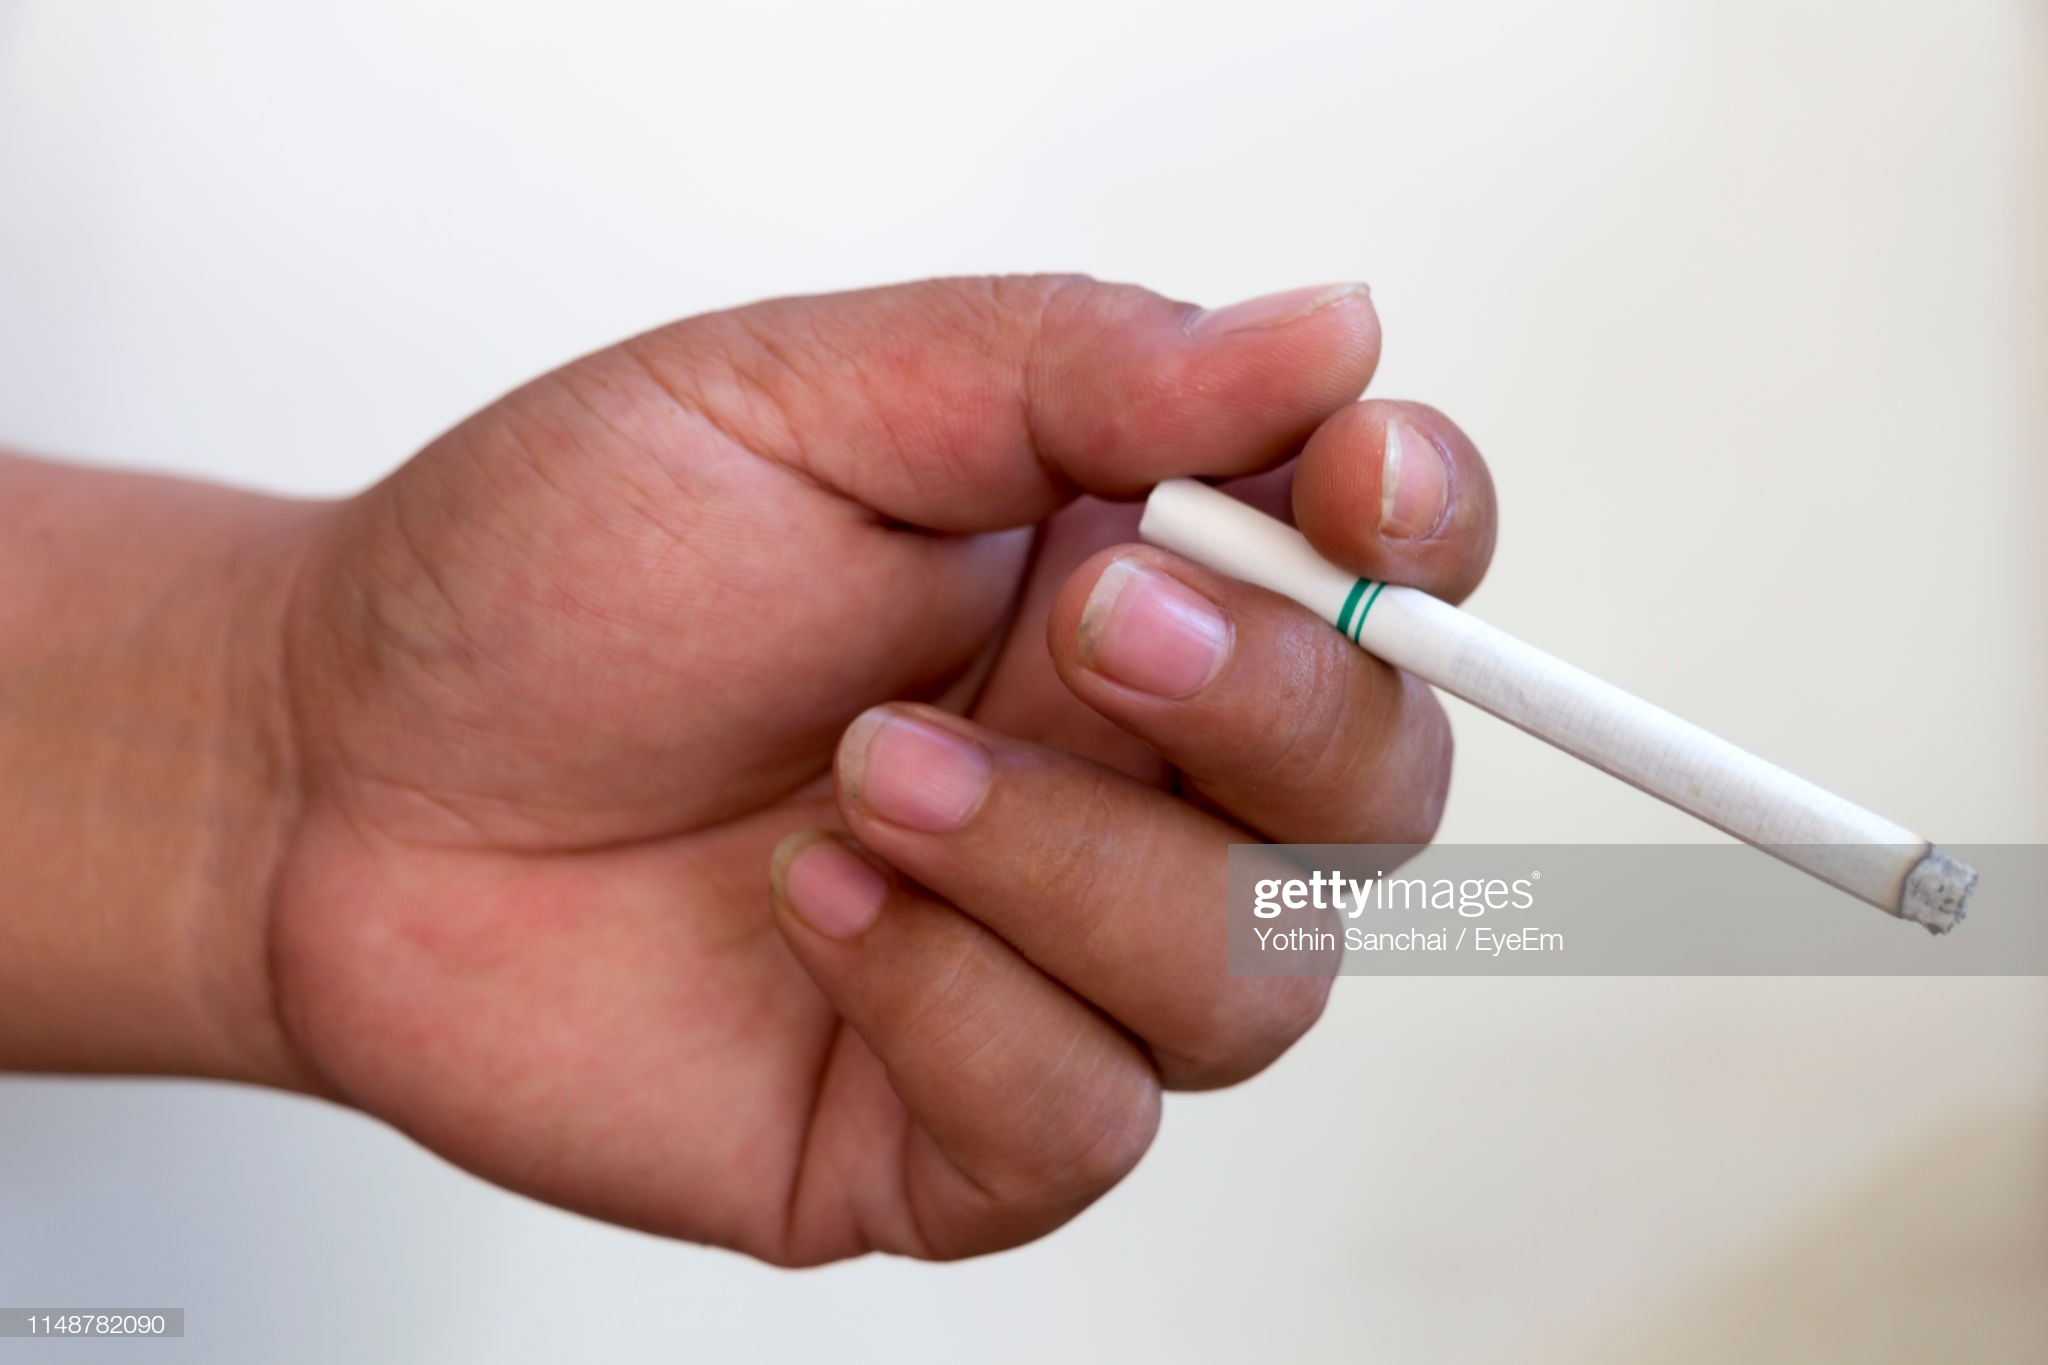sigaretta: (1145, 472, 1976, 929)
